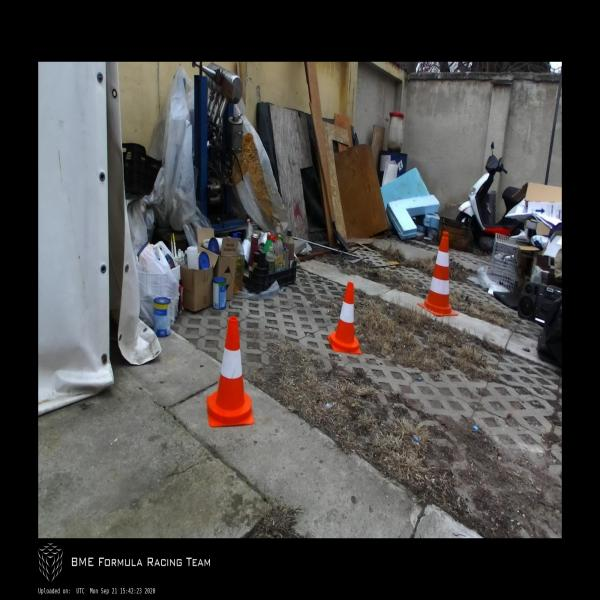large_orange_cone: (417, 232, 458, 316)
orange_cone: (206, 316, 254, 427), (328, 282, 362, 354)
